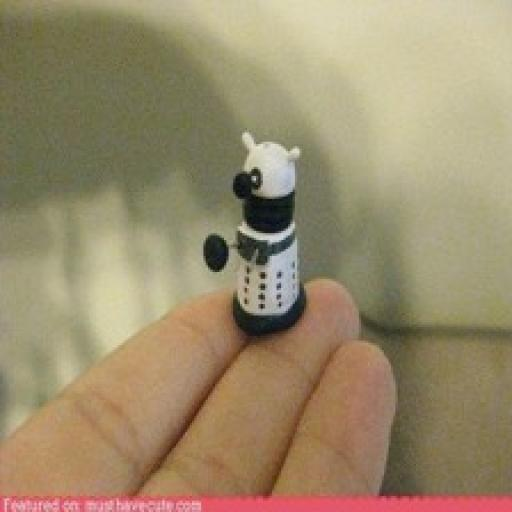dalek: (202, 130, 311, 338)
